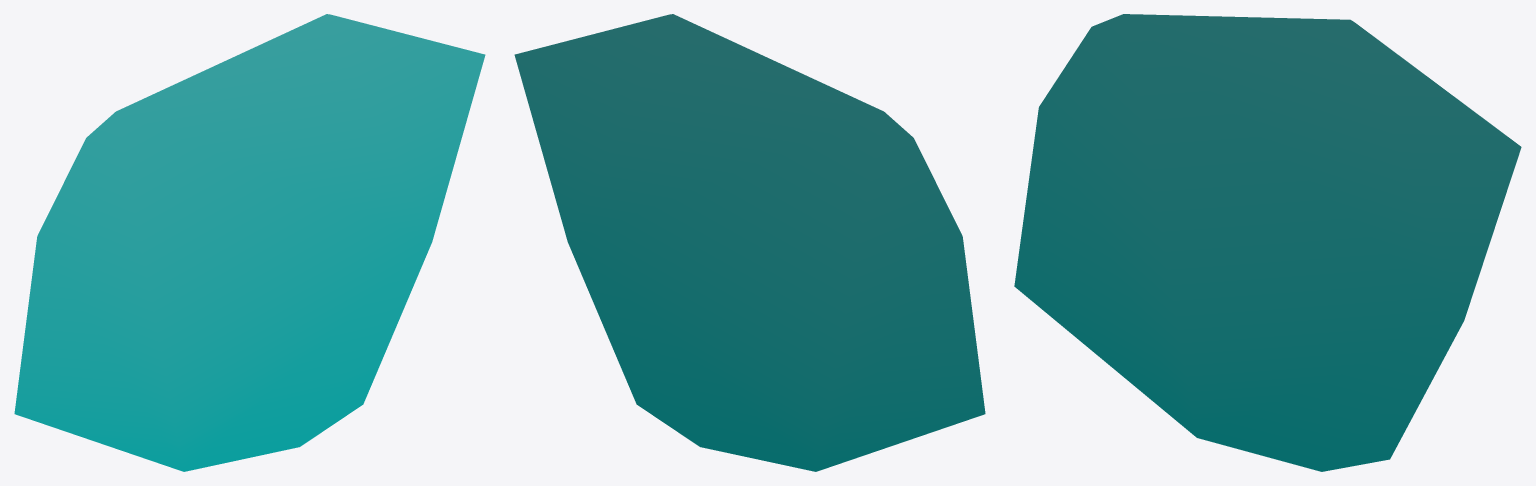
File: Elderberry_wfzobb2ia_Mid_wfzobb2ia_VarC_LOD3.fbx
3 renders of one model, left to right at view 1: azimuth 30°, elevation 25°; view 2: azimuth 150°, elevation 25°; view 3: azimuth 330°, elevation 25°, orthographic. The views are drawn at different scales.
Visible parts, largest first — view 1: _woww_VarC_LOD6; view 2: _woww_VarC_LOD6; view 3: _woww_VarC_LOD6.
Boxes of the visible parts, x1,y1,x2,y2 form: _woww_VarC_LOD6: (14,14,485,471); _woww_VarC_LOD6: (514,14,985,471); _woww_VarC_LOD6: (1014,14,1521,471).
Size of the model in its own units: 106 by 91.79 by 0.
